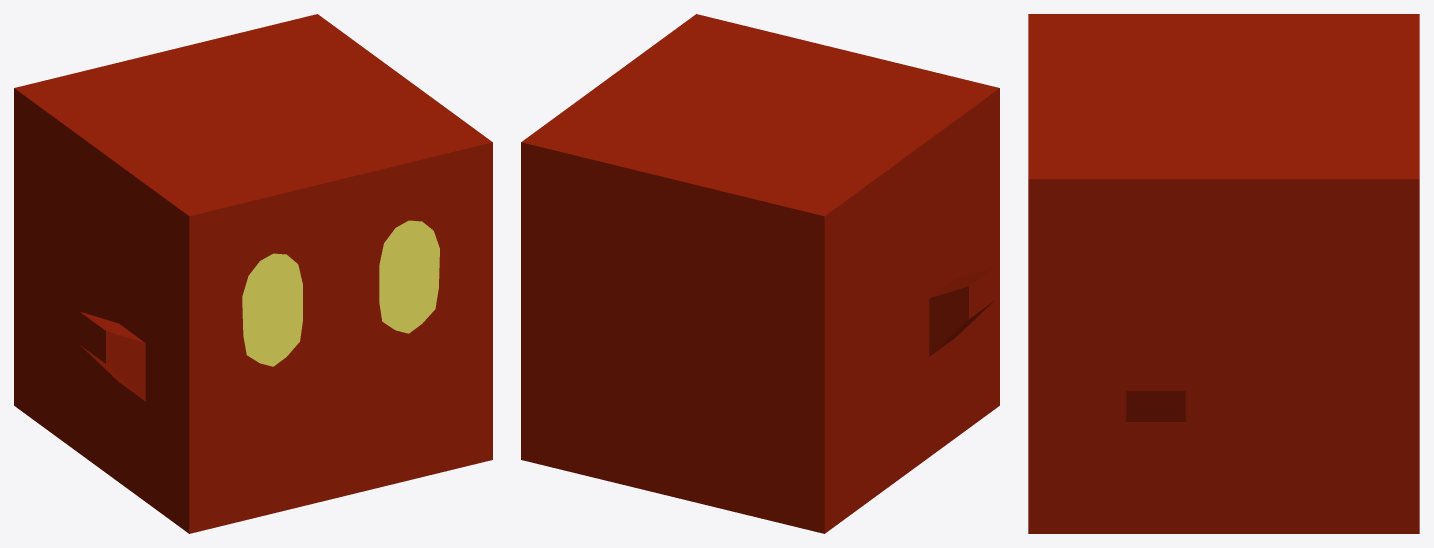
Rendered from new_cube_minion.dae.
3 renders of one model, left to right at view 1: azimuth 30°, elevation 25°; view 2: azimuth 150°, elevation 25°; view 3: azimuth 270°, elevation 25°, orthographic. The views are drawn at different scales.
Visible parts, largest first — view 1: Cube; view 2: Cube; view 3: Cube.
Boxes of the visible parts, bbox=[...] form: Cube: bbox=[14, 14, 492, 533]; Cube: bbox=[521, 14, 999, 533]; Cube: bbox=[1028, 14, 1419, 533].
Bounding box in the file's own units: 2.52 × 2 × 2.
2 materials, 2 textured.
